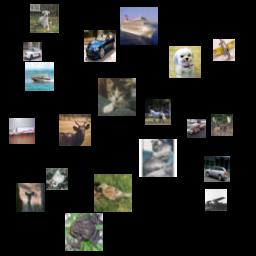airplane: (205, 189, 227, 211), (213, 39, 235, 61)
automobile: (84, 30, 116, 62), (204, 156, 230, 182), (23, 42, 42, 61)
bird: (94, 174, 132, 212)
cat: (139, 139, 177, 177), (98, 78, 136, 116), (46, 168, 68, 190)
deer: (59, 114, 91, 146), (16, 183, 45, 212), (211, 114, 233, 136)
dog: (169, 46, 201, 78), (30, 4, 59, 33)
frog: (65, 213, 103, 251)
ship: (120, 7, 158, 45), (25, 62, 54, 91)
truck: (9, 118, 35, 144), (187, 119, 206, 138)
